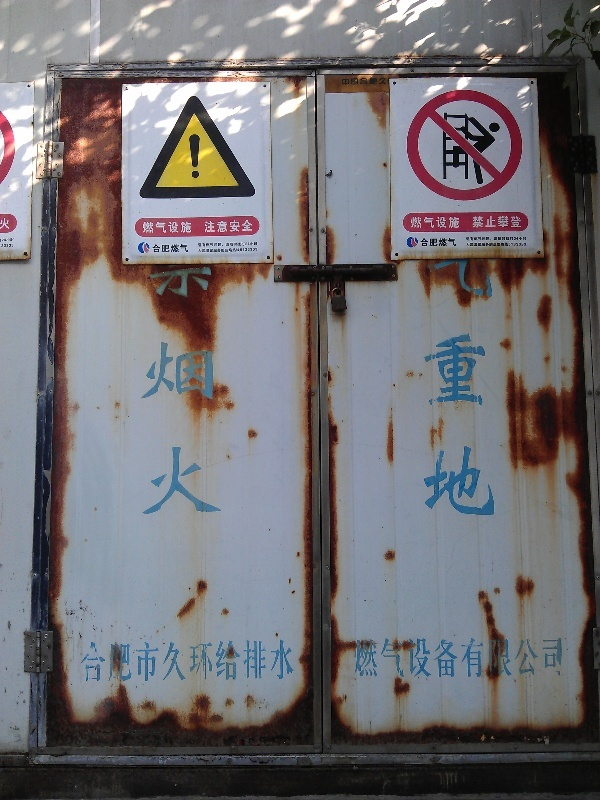text: (433, 258, 448, 523), (449, 258, 464, 523), (465, 258, 480, 523), (481, 258, 496, 523), (145, 264, 160, 514), (161, 264, 176, 514), (177, 264, 192, 514), (193, 264, 208, 514), (209, 264, 221, 514), (423, 258, 432, 523), (138, 264, 144, 514), (369, 635, 384, 679), (385, 635, 400, 679), (401, 635, 416, 679), (417, 635, 432, 679), (433, 635, 448, 679), (449, 635, 464, 679), (465, 635, 480, 679), (481, 635, 496, 679), (497, 635, 512, 679), (513, 635, 528, 679), (529, 635, 544, 679), (545, 635, 560, 679), (354, 635, 368, 679), (81, 639, 96, 680), (97, 639, 112, 680), (113, 639, 128, 680), (129, 639, 144, 680), (145, 639, 160, 680), (161, 639, 176, 680), (177, 639, 192, 680), (193, 639, 208, 680), (209, 639, 224, 680), (225, 639, 240, 680), (241, 639, 256, 680), (257, 639, 272, 680), (273, 639, 288, 680), (561, 635, 566, 679), (145, 221, 160, 235), (161, 221, 176, 235), (177, 221, 192, 235), (289, 639, 294, 680), (209, 220, 224, 233), (225, 220, 240, 233), (417, 217, 432, 229), (433, 217, 448, 229), (1, 218, 16, 230), (481, 216, 496, 228), (497, 216, 512, 228), (449, 217, 463, 229), (241, 220, 253, 233), (353, 76, 368, 86), (369, 76, 384, 86), (433, 238, 448, 247), (161, 244, 176, 253), (209, 241, 224, 249), (225, 241, 240, 249), (241, 241, 256, 249), (341, 76, 352, 86), (177, 244, 189, 253), (513, 216, 522, 228), (421, 238, 432, 247), (472, 216, 480, 228), (209, 248, 224, 254), (225, 248, 240, 254), (241, 248, 256, 254), (409, 217, 416, 229), (198, 241, 208, 249), (481, 236, 496, 241), (497, 236, 512, 241), (481, 242, 496, 247), (497, 242, 512, 247), (449, 238, 457, 247), (152, 244, 160, 253), (466, 236, 480, 241), (513, 236, 527, 241), (466, 242, 480, 247), (513, 242, 527, 247), (203, 220, 208, 233), (198, 248, 208, 254), (1, 238, 16, 242), (1, 244, 16, 248), (140, 221, 144, 235), (385, 76, 387, 86), (193, 221, 194, 235), (257, 248, 259, 254), (257, 241, 258, 249)
